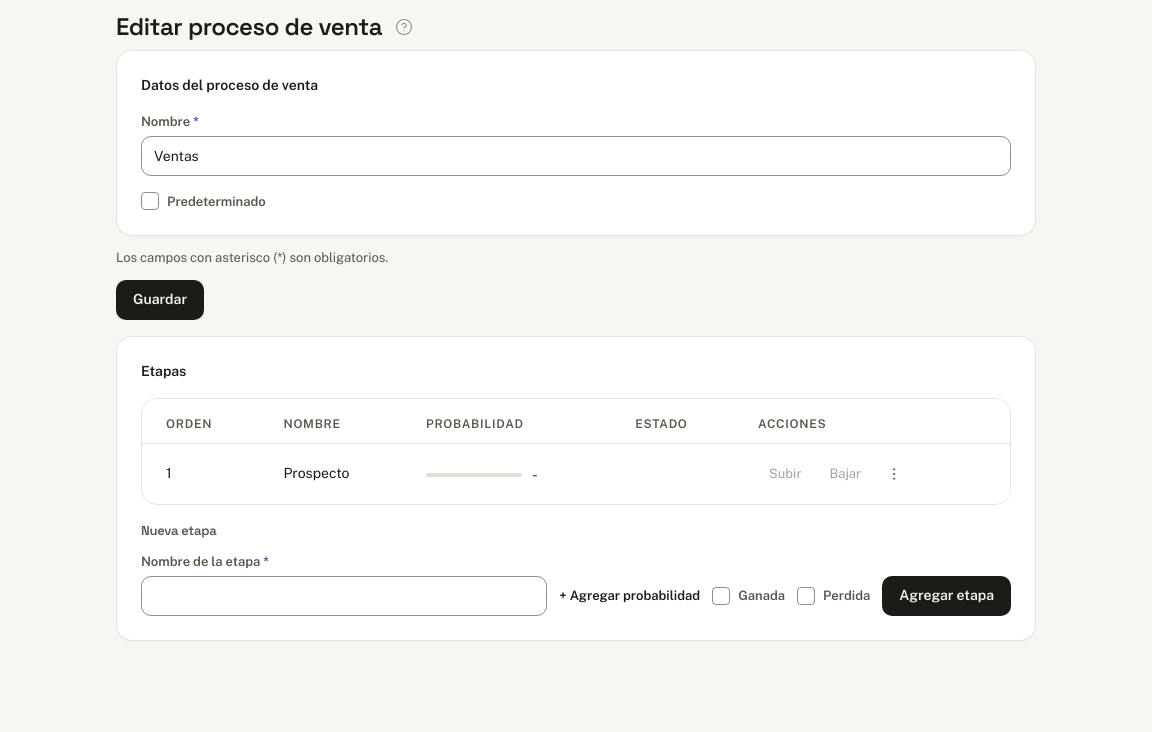
PipelineFormPage — editor de etapas integrado › Agregar etapa: POST con pipelineId y sin order, la fila aparece, toast, y el formulario queda vacío para la siguiente
Expected: the text "Prospecto" is shown, [267, 443, 410, 504]
Type "Negociación" into the field labelled "Nombre de la etapa" at [344, 596], box [141, 576, 547, 616]
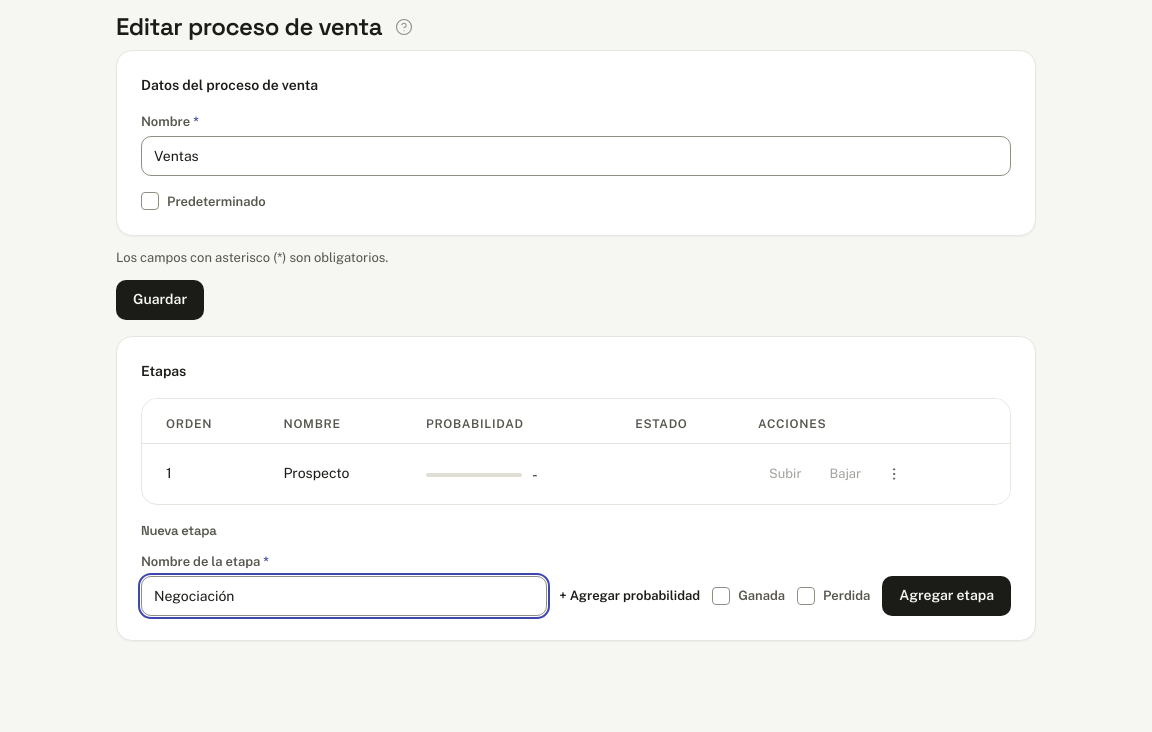
# §13: Probabilidad va oculta hasta que se pide.
Click the button "+ Agregar probabilidad" at [630, 596], box [559, 576, 700, 616]
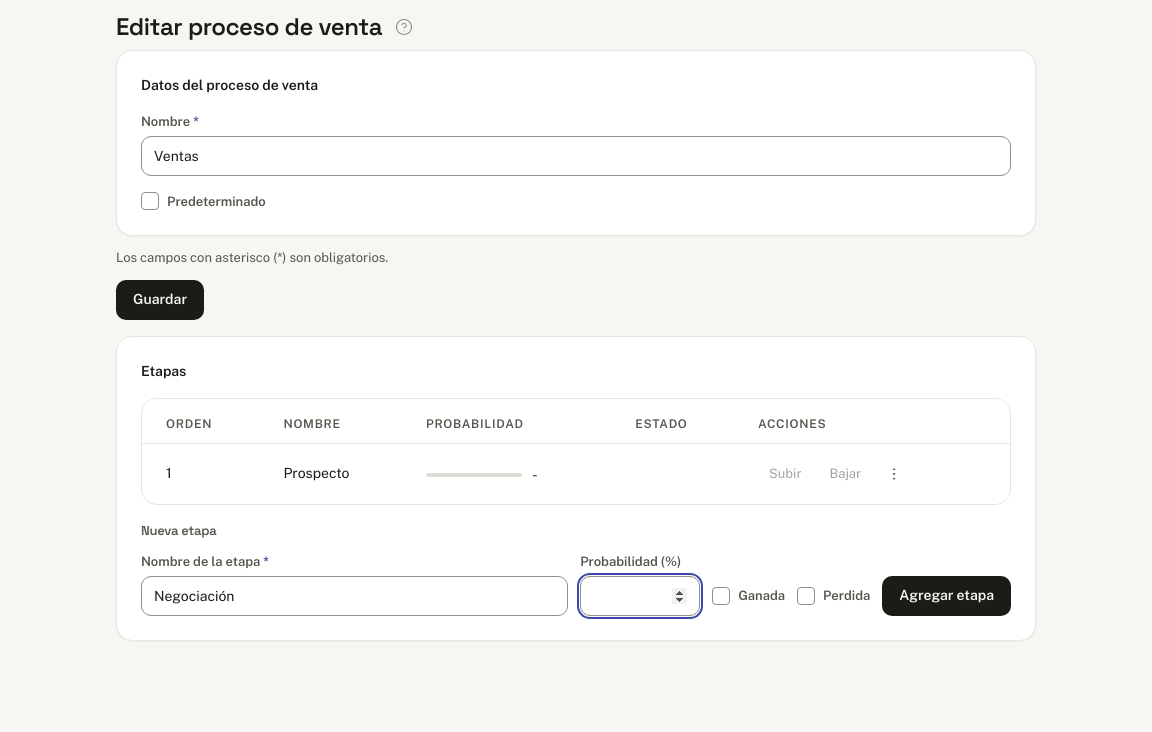
Type "60" into the number field labelled "Probabilidad (%)" at [640, 596], box [580, 576, 700, 616]
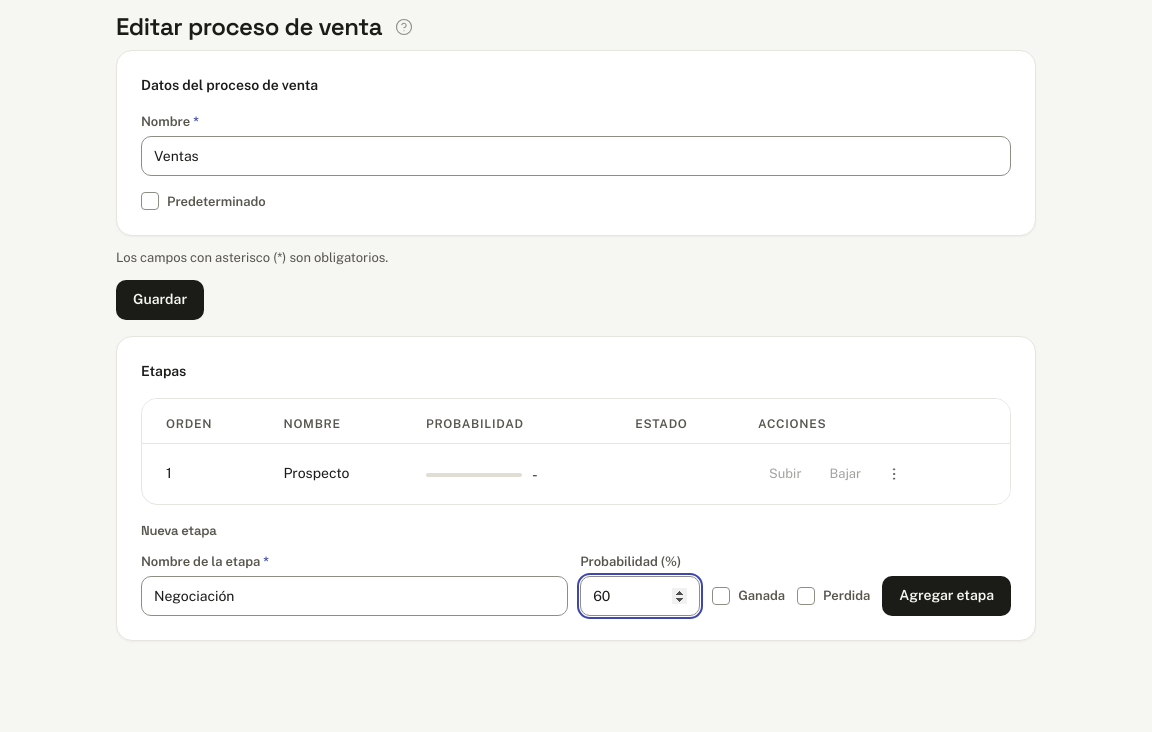
Click the checkbox labelled "Ganada" at [721, 596], box [712, 586, 730, 604]
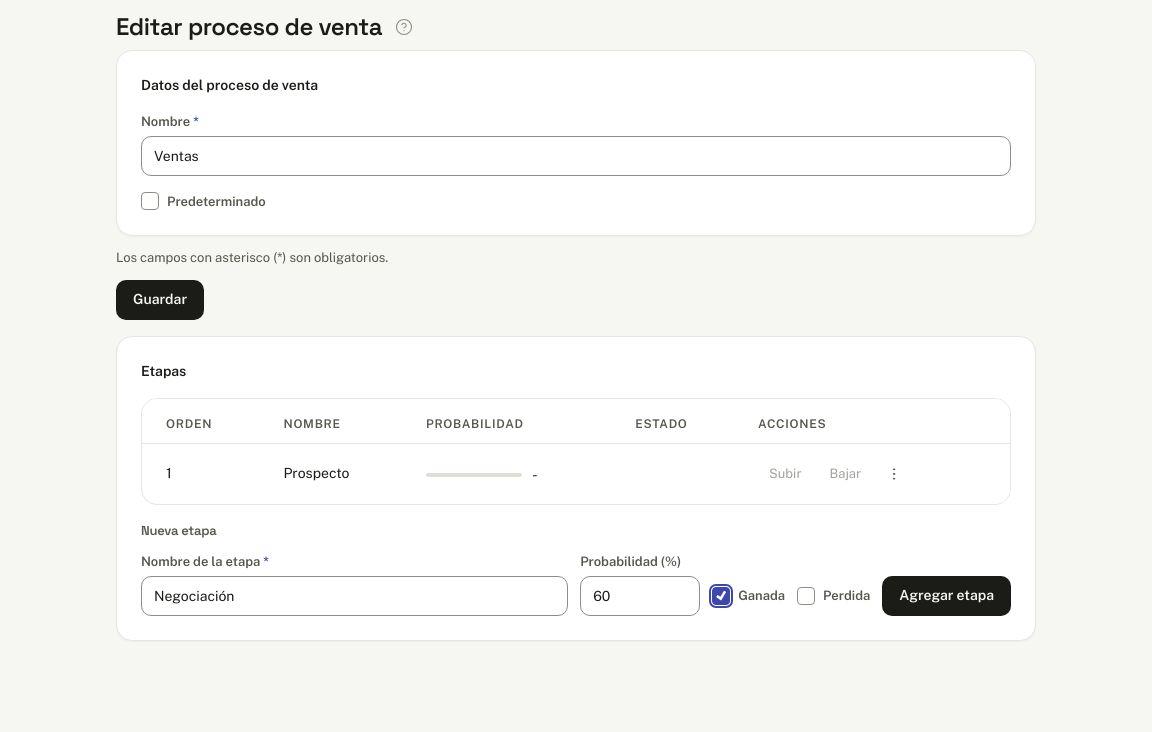
Click the button "Agregar etapa" at [947, 596], box [882, 576, 1011, 616]
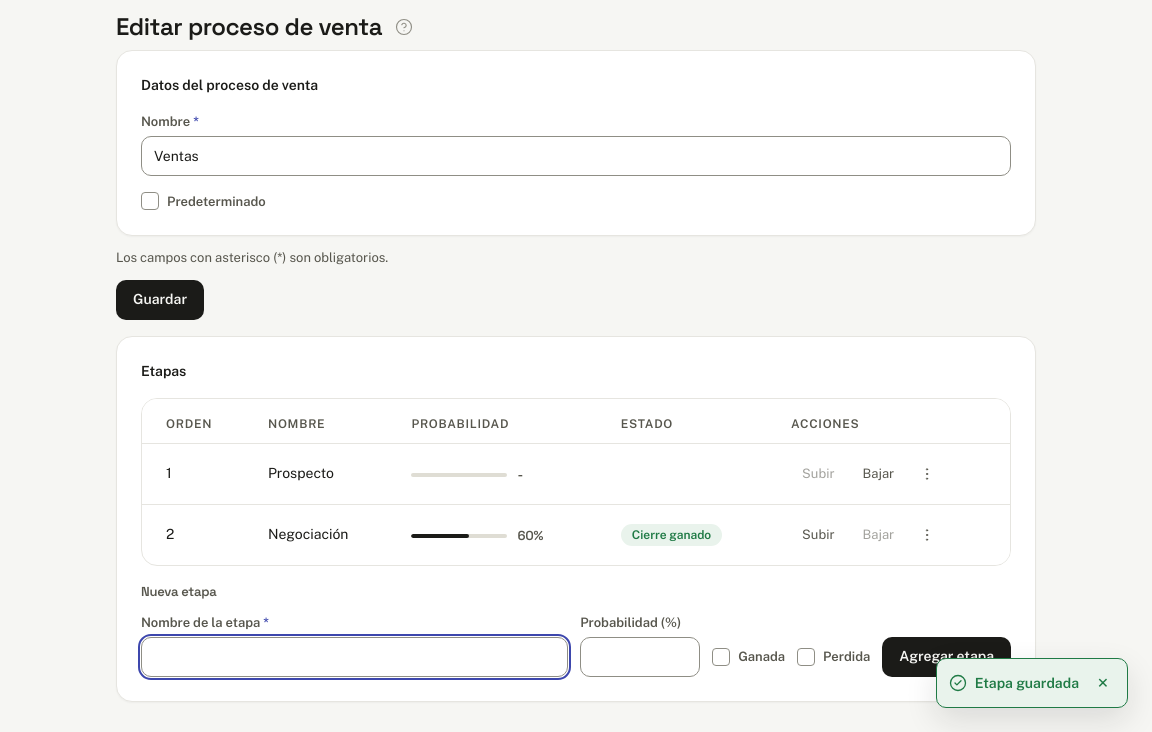
Expected: the text "Negociación" is shown, [252, 504, 395, 564]
Expected: the message shows "Etapa guardada", [975, 674, 1079, 690]
Expected: the field labelled "Nombre de la etapa" is empty, [141, 636, 568, 676]
